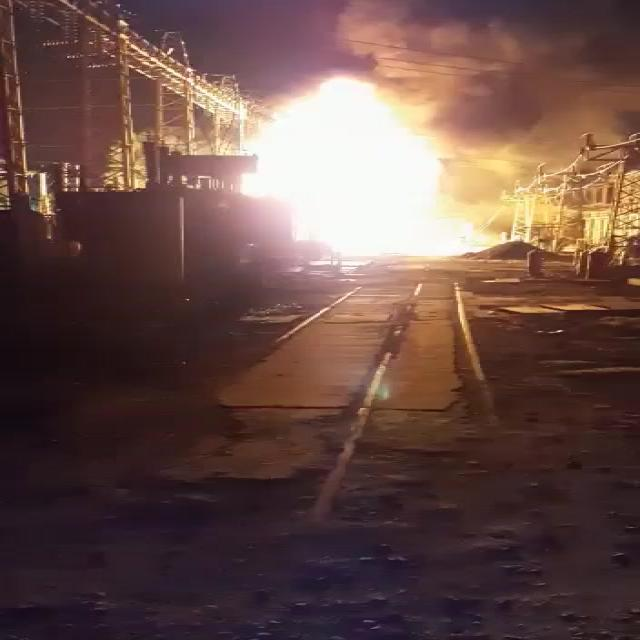Fire: (242, 72, 527, 259)
